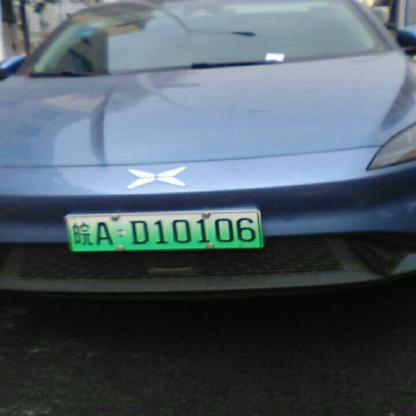lp: (65, 211, 261, 249)
